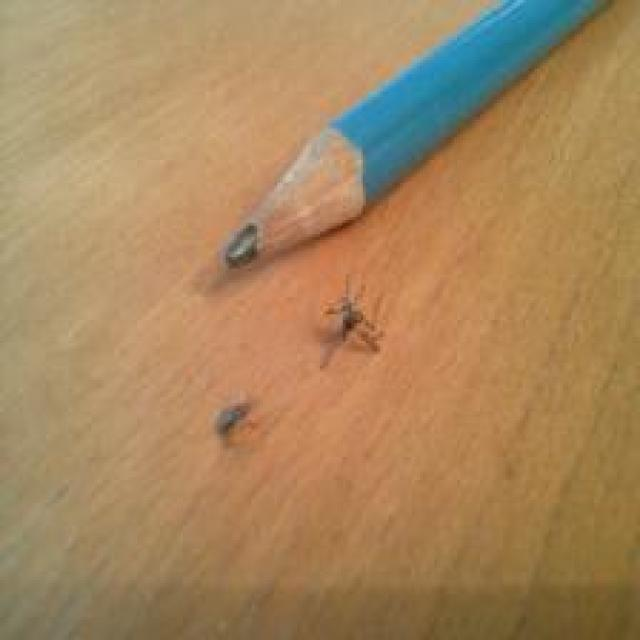Aedes albopictus: (322, 273, 384, 356)
